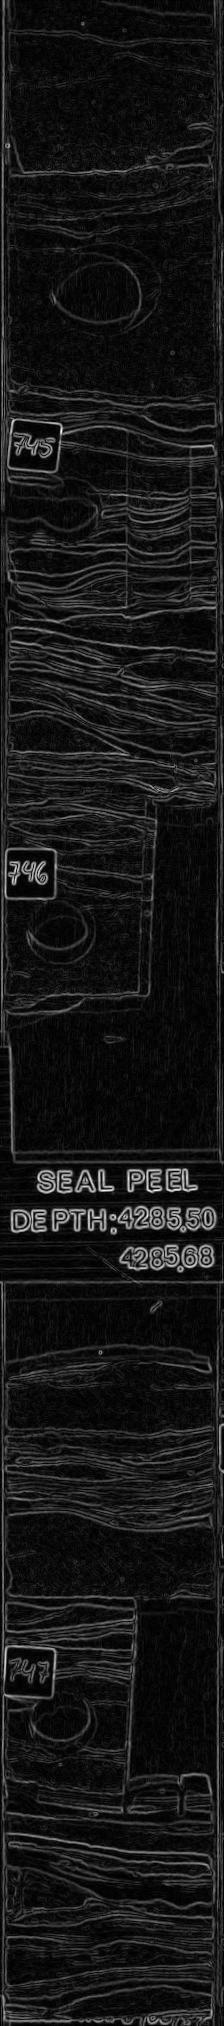hplug: (33, 470, 108, 549), (23, 897, 98, 968), (25, 1691, 102, 1760)
scal: (46, 239, 166, 341)
vplug: (123, 1587, 212, 1816), (121, 424, 196, 612)
